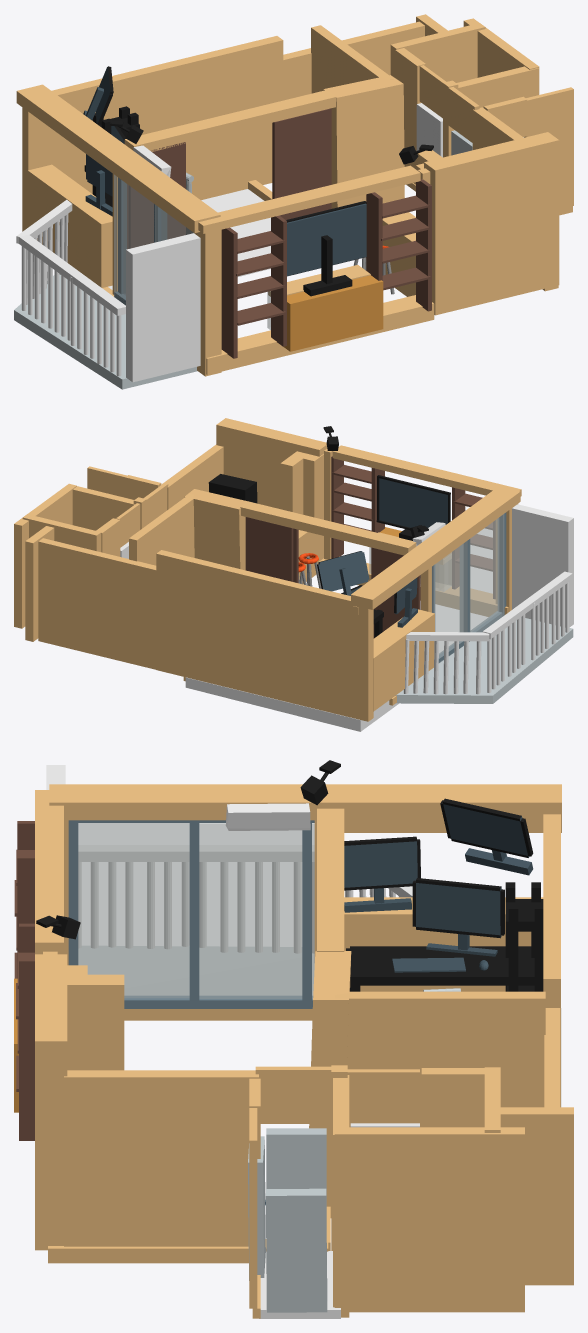
Rendered from scene_MLXaTzhTar.glb.
3 views of the same model, one above another, from view 1: azimuth 30°, elevation 25°; view 2: azimuth 150°, elevation 25°; view 3: azimuth 270°, elevation 25° (orthographic). The views are drawn at different scales.
Parts seen in each view (by area): view 1: Node; view 2: Node; view 3: Node.
Boxes of the visible parts, x1,y1,x2,y2 form: Node: [14, 14, 573, 389]; Node: [14, 418, 573, 731]; Node: [14, 760, 573, 1318].
Size of the model in its own units: 5.41 by 1.83 by 3.48.
